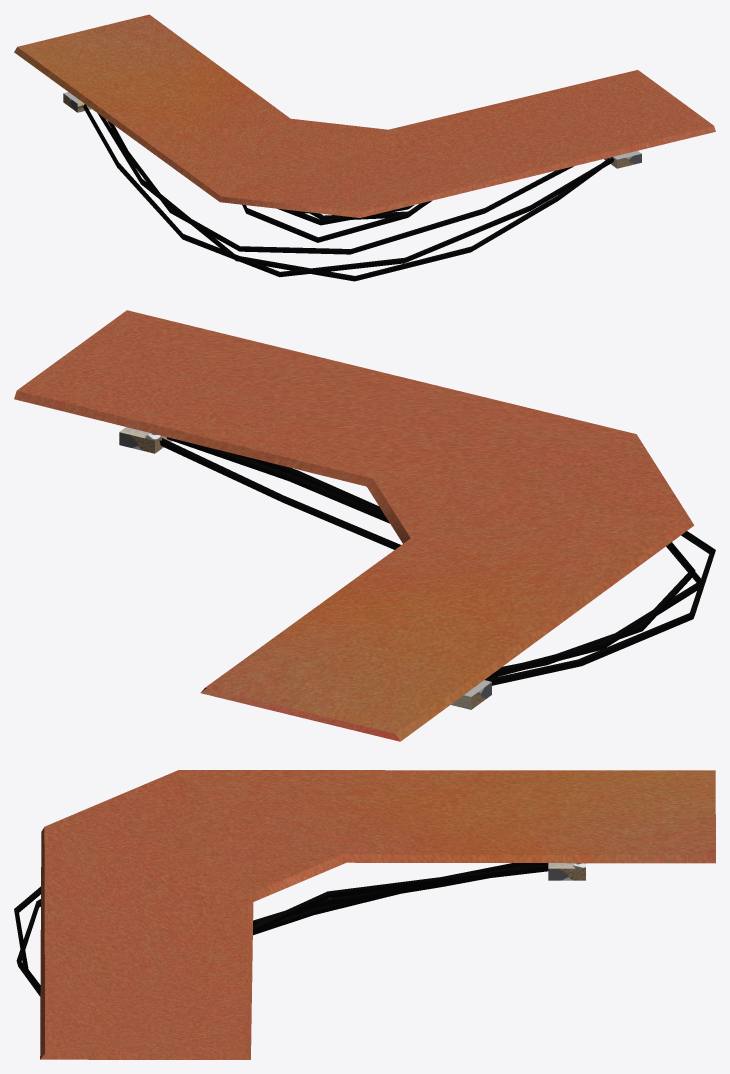
The model's file is meme-factory-bridge-corner-art.glb.
3 renders of one model, top to bottom at view 1: azimuth 30°, elevation 25°; view 2: azimuth 150°, elevation 25°; view 3: azimuth 270°, elevation 25°, orthographic. The views are drawn at different scales.
Parts seen in each view (by area): view 1: MemeFactory_BridgeCorner_Art; view 2: MemeFactory_BridgeCorner_Art; view 3: MemeFactory_BridgeCorner_Art.
Boxes of the visible parts, <box> form: MemeFactory_BridgeCorner_Art: <box>14,14,715,281</box>; MemeFactory_BridgeCorner_Art: <box>14,310,715,741</box>; MemeFactory_BridgeCorner_Art: <box>14,770,715,1059</box>.
Bounding box in the file's own units: 6.94 × 1.18 × 6.92.
Materials: 3 (3 with a texture image).
